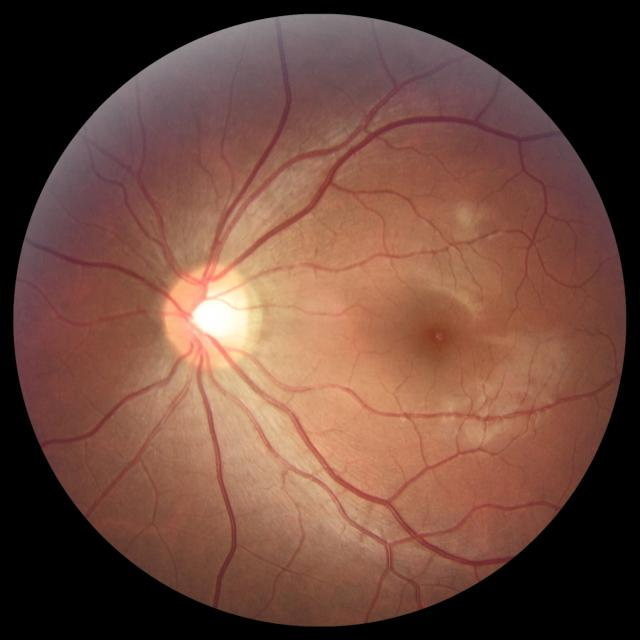OC: (188, 288, 242, 342)
OD: (162, 262, 256, 368)
